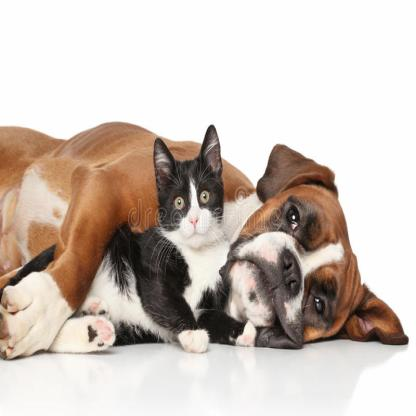cat: (128, 103, 244, 276)
dog: (240, 148, 412, 363)
